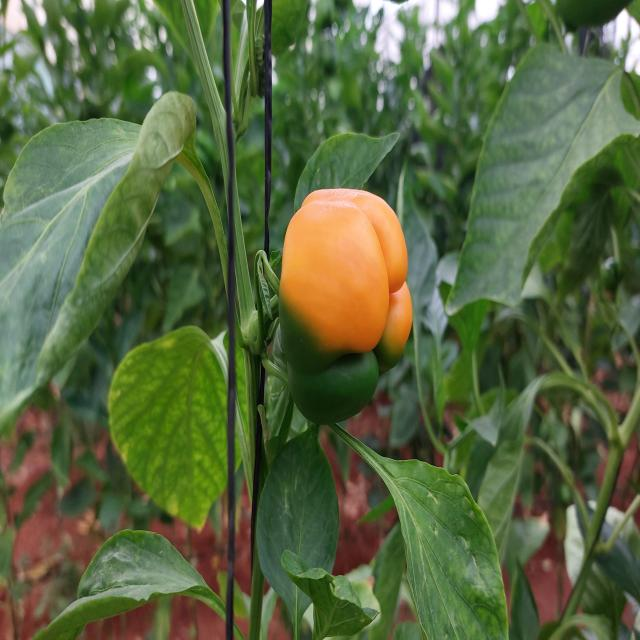Yellow-Ready-to-Harvest: (284, 178, 414, 366)
